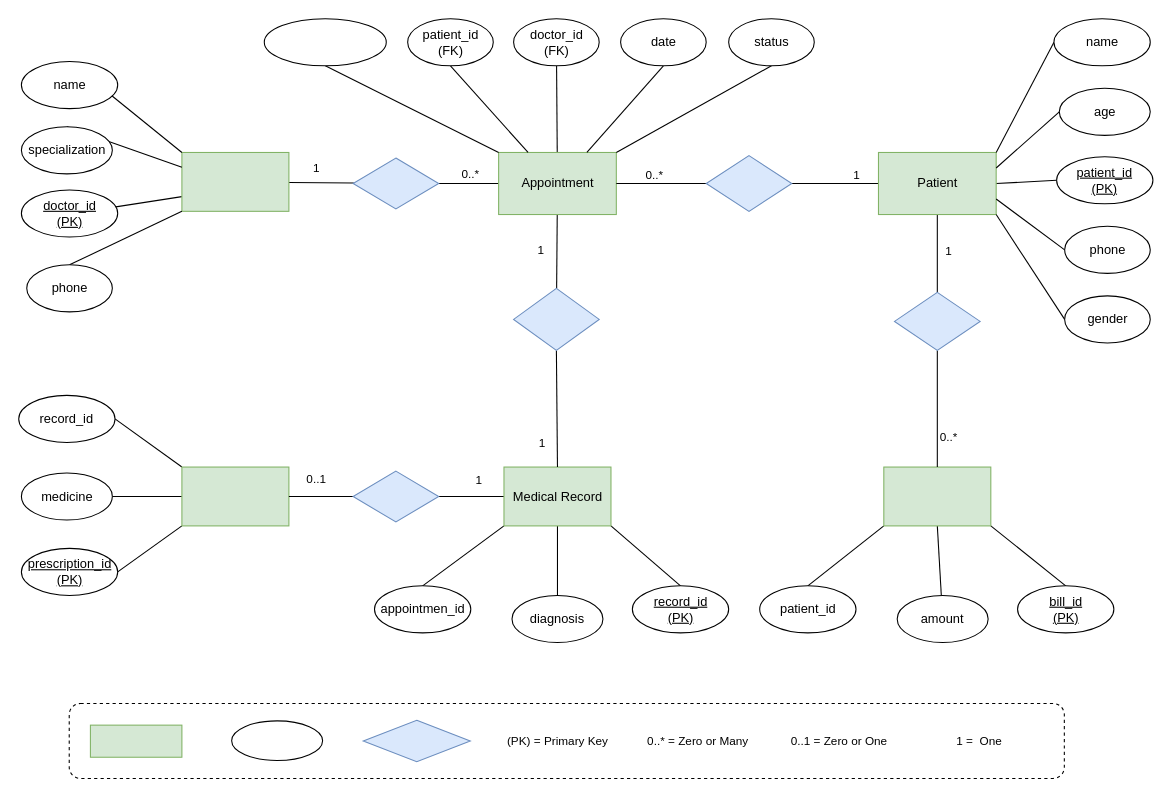
Image size: 1172x797. Some labels were removed from this diagram. Each missing label, with the centre of its shape:
"appointment_id (PK)" belongs at pixel 324 42.
"attends" belongs at pixel 395 183.
"attribute" belongs at pixel 277 740.
"Bill" belongs at pixel 937 496.
"books" belongs at pixel 748 183.
"Creates" belongs at pixel 556 318.
"Doctor" belongs at pixel 235 181.
"Entity" belongs at pixel 135 740.
"generates" belongs at pixel 395 496.
"Prescription" belongs at pixel 235 496.
"receives" belongs at pixel 936 320.
"relationship" belongs at pixel 416 740.
